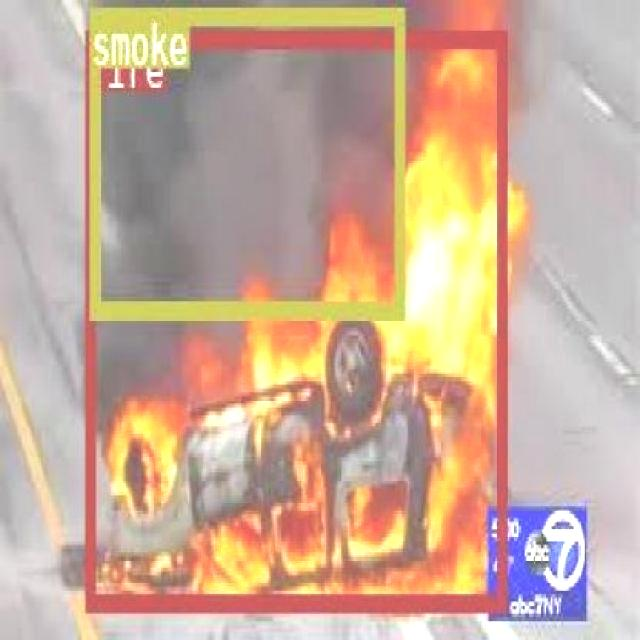fire: (84, 28, 504, 608)
smoke: (89, 4, 402, 312)
